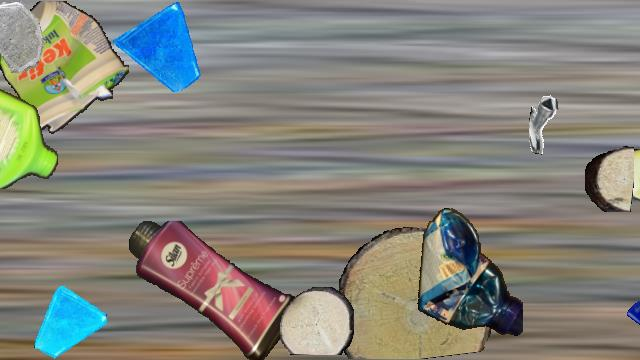glass: (113, 1, 203, 91), (32, 285, 106, 359), (0, 1, 47, 73), (625, 280, 640, 358)
metal: (529, 95, 591, 157)
plastic: (128, 221, 300, 359), (0, 1, 129, 139), (414, 206, 522, 342), (0, 56, 59, 188), (608, 146, 640, 212)
wood: (335, 227, 495, 359), (280, 287, 354, 355), (585, 145, 633, 211)
